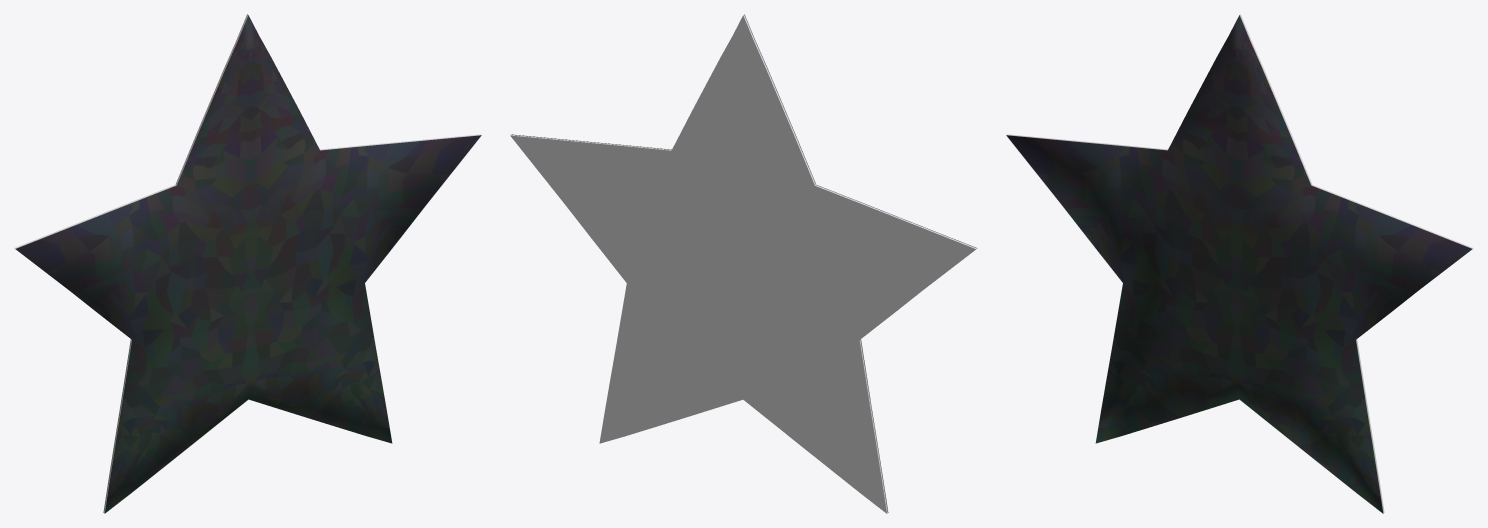
File: hosi_bluck_holo.glb
The picture shows the model from 3 angles, left to right: view 1: azimuth 30°, elevation 25°; view 2: azimuth 150°, elevation 25°; view 3: azimuth 330°, elevation 25°; orthographic projection.
Visible parts, largest first — view 1: Plane.001, Plane.002, Plane; view 2: Plane, Plane.001; view 3: Plane.001, Plane.002, Plane.
Boxes of the visible parts, x1,y1,x2,y2 form: Plane.001: (15, 15, 481, 513); Plane.002: (16, 15, 481, 513); Plane: (14, 14, 480, 513); Plane: (510, 14, 976, 513); Plane.001: (512, 14, 976, 512); Plane.001: (1006, 15, 1472, 513); Plane.002: (1006, 15, 1471, 513); Plane: (1007, 14, 1473, 513).
Bounding box in the file's own units: 1.95 × 1.85 × 0.0288.
2 materials, 1 textured.
